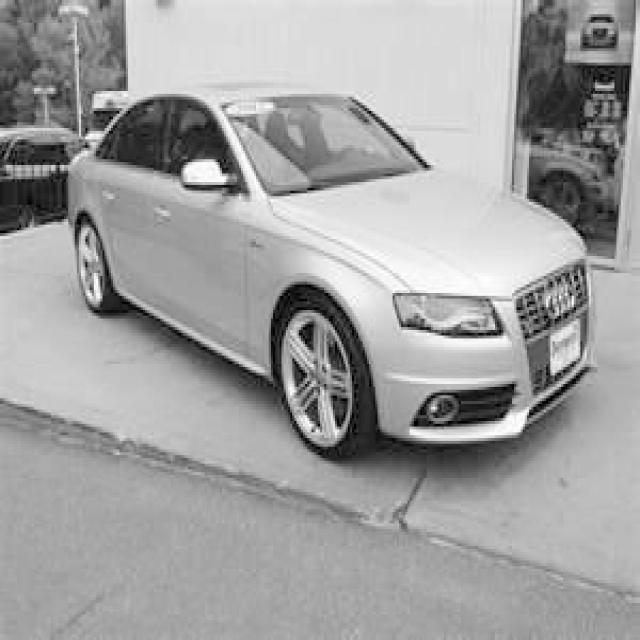car: (66, 82, 597, 461)
